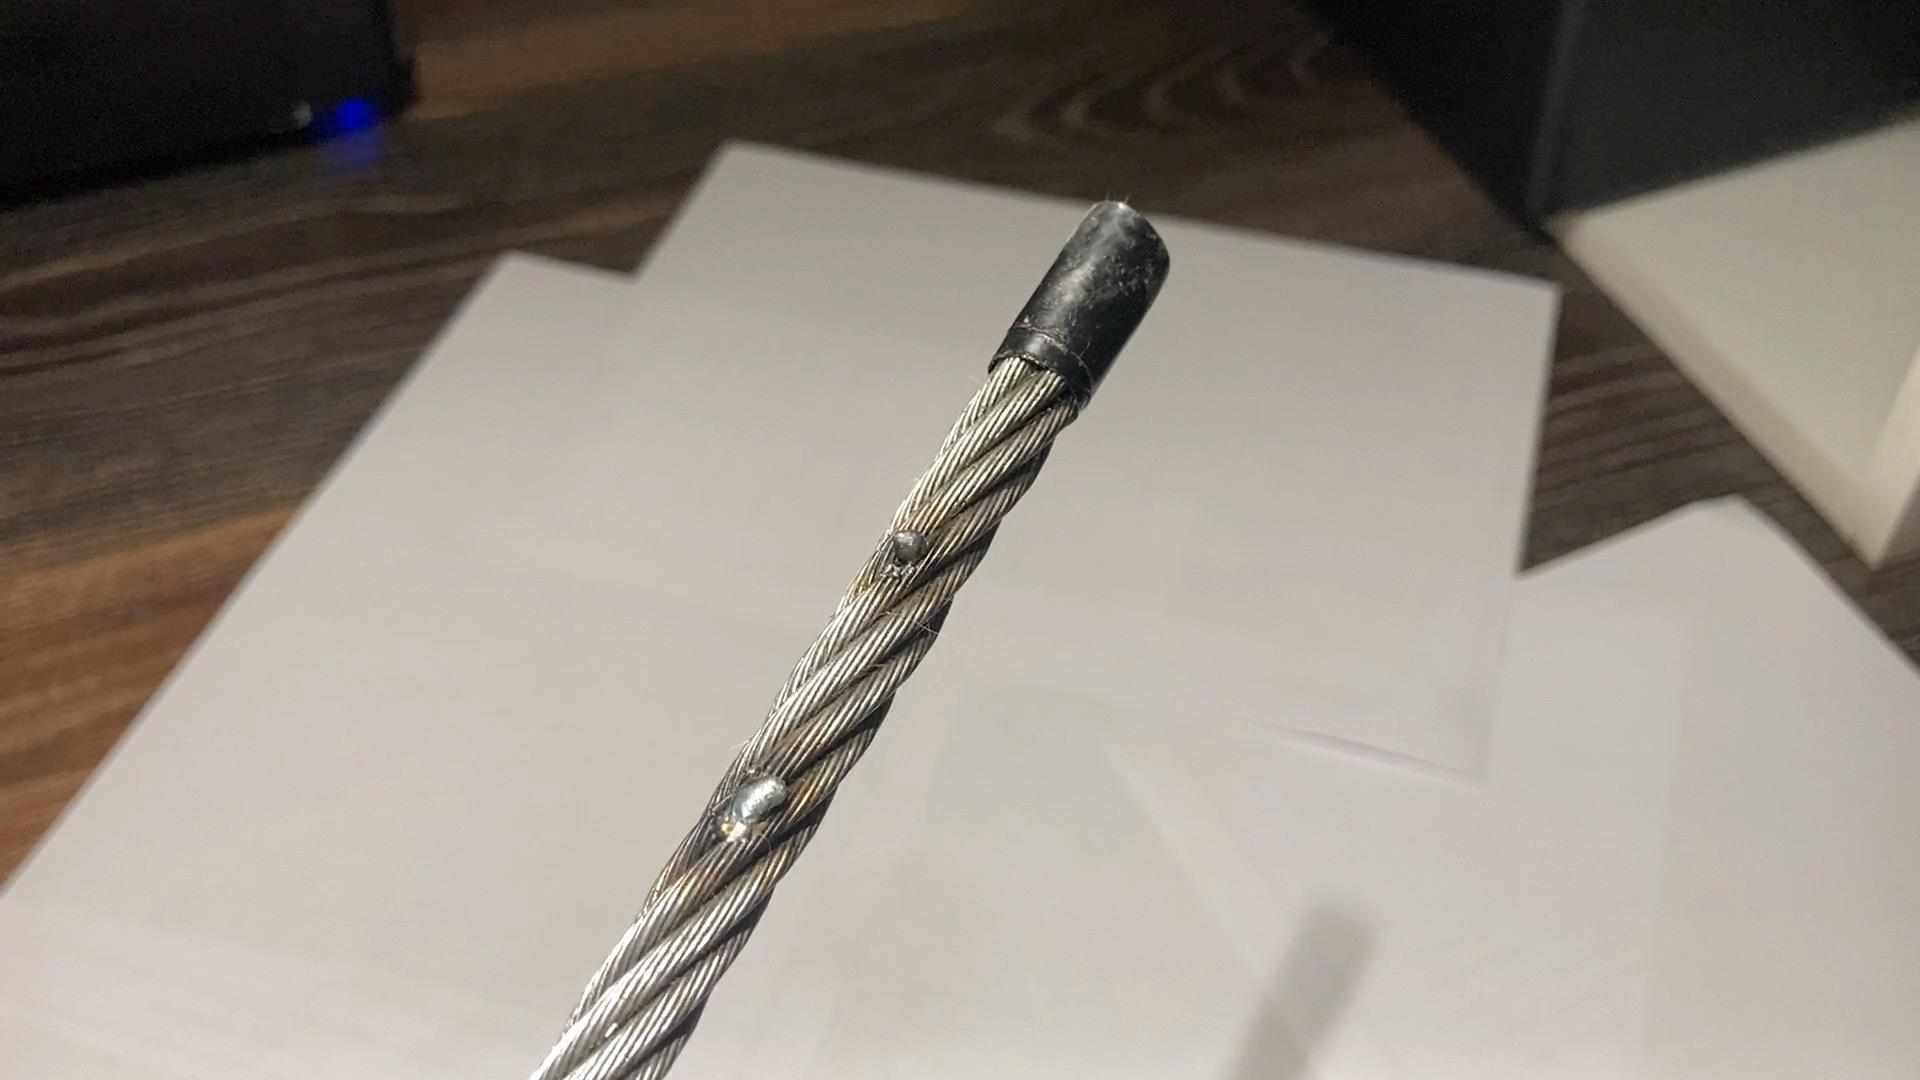thunderbolt: (728, 750, 804, 847), (861, 524, 951, 587)
